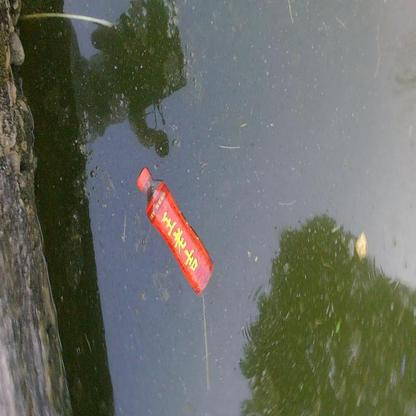plastic bottle: (137, 168, 215, 295)
